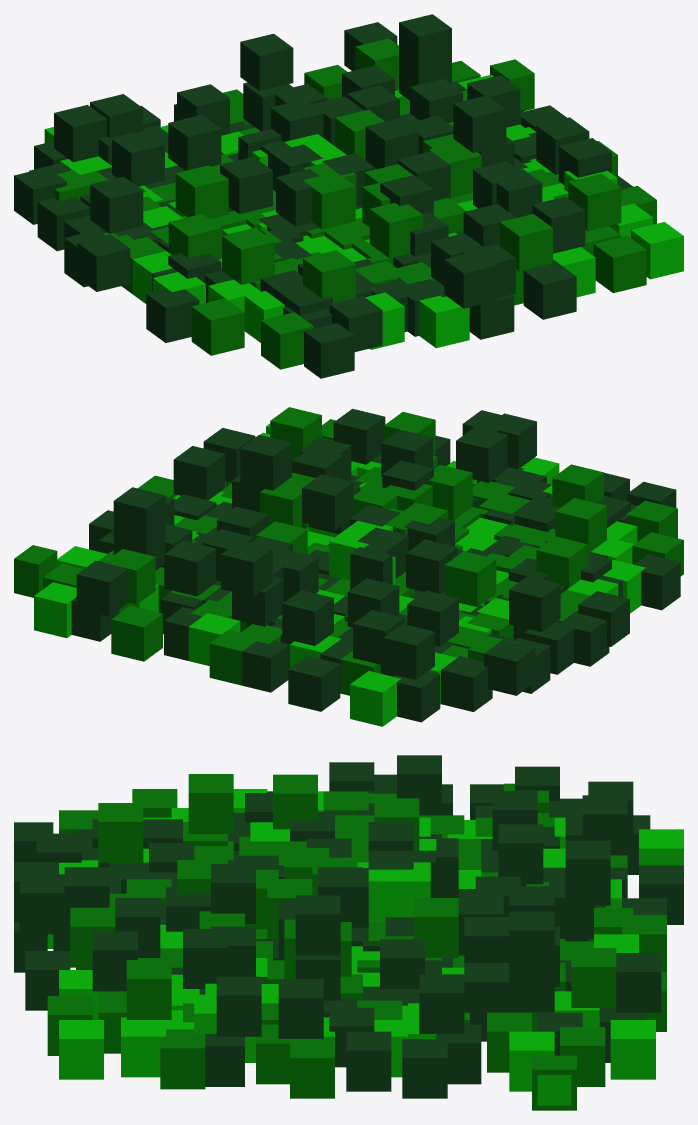
File: map2.obj
The picture shows the model from 3 angles, top to bottom: view 1: azimuth 30°, elevation 25°; view 2: azimuth 150°, elevation 25°; view 3: azimuth 270°, elevation 25°; orthographic projection. The views are drawn at different scales.
Size of the model in its own units: 125 by 25 by 119.
Materials: 1 (1 with a texture image).
